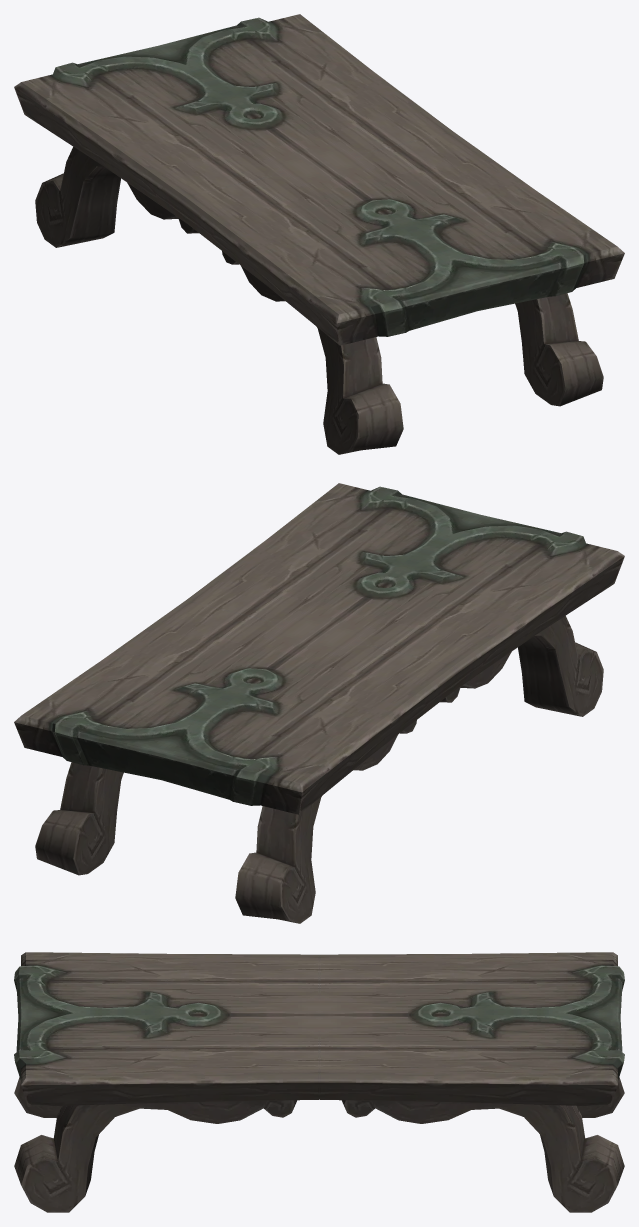
3 views of the same model, one above another, from view 1: azimuth 30°, elevation 25°; view 2: azimuth 150°, elevation 25°; view 3: azimuth 270°, elevation 25° (orthographic). The views are drawn at different scales.
Size of the model in its own units: 1.38 by 0.7077 by 2.74.
Materials: 1 (1 with a texture image).
